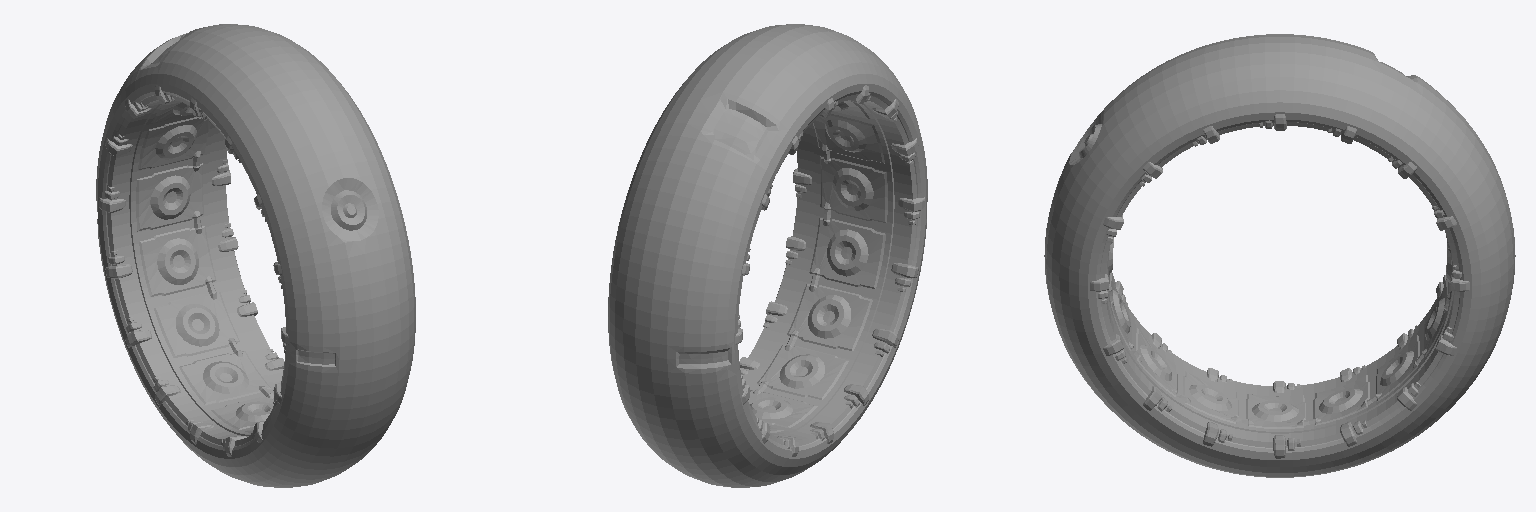
Rendered from Portal_Damaged.obj.
The picture shows the model from 3 angles: view 1: azimuth 30°, elevation 25°; view 2: azimuth 150°, elevation 25°; view 3: azimuth 270°, elevation 25°; orthographic projection.
Visible parts, largest first — view 1: Portal_Damaged_Body_Portal_Torus.000, Portal_Damaged_Engines_RayPannels_Torus.000, Portal_Damaged_Holders_Holders_Torus.000; view 2: Portal_Damaged_Body_Portal_Torus.000, Portal_Damaged_Engines_RayPannels_Torus.000, Portal_Damaged_Holders_Holders_Torus.000; view 3: Portal_Damaged_Body_Portal_Torus.000, Portal_Damaged_Engines_RayPannels_Torus.000, Portal_Damaged_Holders_Holders_Torus.000.
Part boxes in pixels (x1,y1,x2,y2): Portal_Damaged_Body_Portal_Torus.000: (96,24,415,487); Portal_Damaged_Engines_RayPannels_Torus.000: (136,100,273,432); Portal_Damaged_Holders_Holders_Torus.000: (99,85,288,456); Portal_Damaged_Body_Portal_Torus.000: (608,24,927,487); Portal_Damaged_Engines_RayPannels_Torus.000: (748,100,887,432); Portal_Damaged_Holders_Holders_Torus.000: (735,85,924,456); Portal_Damaged_Body_Portal_Torus.000: (1044,34,1515,477); Portal_Damaged_Engines_RayPannels_Torus.000: (1107,236,1452,428); Portal_Damaged_Holders_Holders_Torus.000: (1090,114,1469,458).
Size of the model in its own units: 0.9274 by 2.95 by 2.95.